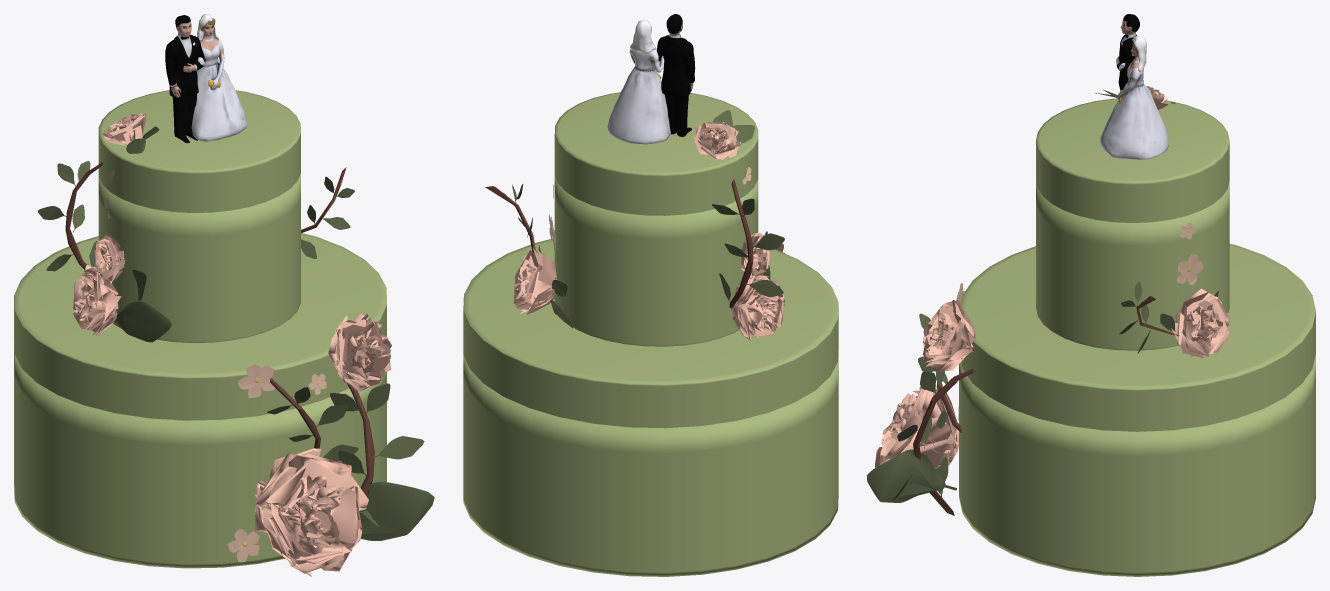
The model's file is 2-tier-pistage-roses-bridegroom.glb.
3 renders of one model, left to right at view 1: azimuth 30°, elevation 25°; view 2: azimuth 150°, elevation 25°; view 3: azimuth 270°, elevation 25°, orthographic. The views are drawn at different scales.
Visible parts, largest first — view 1: Cylinder.023, Cylinder.013, grid.025, 13501_Cake_Topper_Bride_Groom_v1_L1.003, grid.024, Plane.049, Plane.059, grid.026, Plane.056, Plane.058, Plane.052, Plane.045 (+4 smaller); view 2: Cylinder.023, Cylinder.013, 13501_Cake_Topper_Bride_Groom_v1_L1.003, grid.026, Plane.056, grid.028, grid.014, grid.027, Plane.045; view 3: Cylinder.023, Cylinder.013, 13501_Cake_Topper_Bride_Groom_v1_L1.003, grid.025, grid.028, Plane.049, grid.024, Plane.059, Plane.045, Plane.058.
Boxes of the visible parts, <box> form: Cylinder.023: <box>14,233,386,568</box>; Cylinder.013: <box>98,90,300,342</box>; grid.025: <box>254,448,368,576</box>; 13501_Cake_Topper_Bride_Groom_v1_L1.003: <box>165,14,247,143</box>; grid.024: <box>328,312,391,391</box>; Plane.049: <box>359,481,434,540</box>; Plane.059: <box>330,383,424,526</box>; grid.026: <box>73,264,121,335</box>; Plane.056: <box>38,161,102,271</box>; Plane.058: <box>267,378,358,461</box>; Plane.052: <box>115,301,171,342</box>; Plane.045: <box>301,167,354,258</box>; Cylinder.023: <box>463,239,838,576</box>; Cylinder.013: <box>554,92,758,346</box>; 13501_Cake_Topper_Bride_Groom_v1_L1.003: <box>607,14,695,144</box>; grid.026: <box>730,275,785,340</box>; Plane.056: <box>712,179,784,308</box>; grid.028: <box>513,248,556,314</box>; grid.014: <box>693,122,741,160</box>; grid.027: <box>740,233,769,280</box>; Plane.045: <box>485,184,541,254</box>; Cylinder.023: <box>959,244,1315,576</box>; Cylinder.013: <box>1036,98,1229,350</box>; 13501_Cake_Topper_Bride_Groom_v1_L1.003: <box>1100,14,1168,159</box>; grid.025: <box>875,383,958,468</box>; grid.028: <box>1171,288,1229,357</box>; Plane.049: <box>867,449,956,502</box>; grid.024: <box>922,300,975,371</box>; Plane.059: <box>893,369,973,515</box>; Plane.045: <box>1119,281,1179,353</box>; Plane.058: <box>918,313,961,432</box>.
Size of the model in its own units: 3.4 by 4.92 by 4.11.
Materials: 7 (1 with a texture image).
